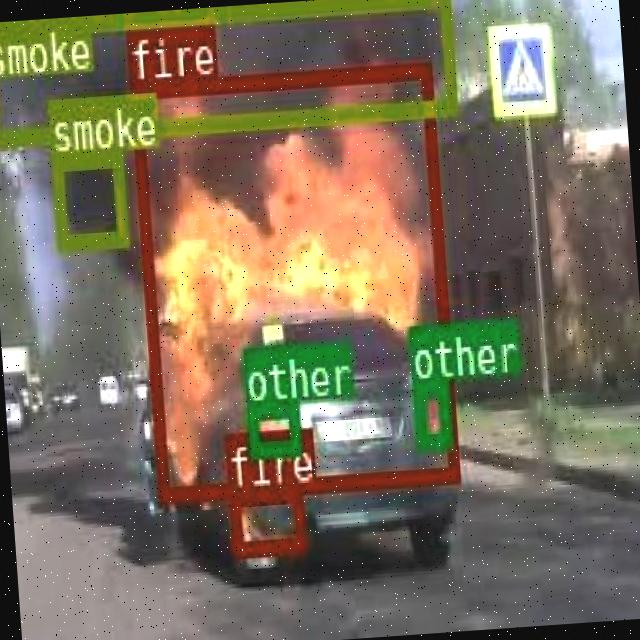fire: (128, 61, 458, 498), (226, 482, 304, 556)
smoke: (0, 0, 452, 140), (51, 149, 126, 248)
